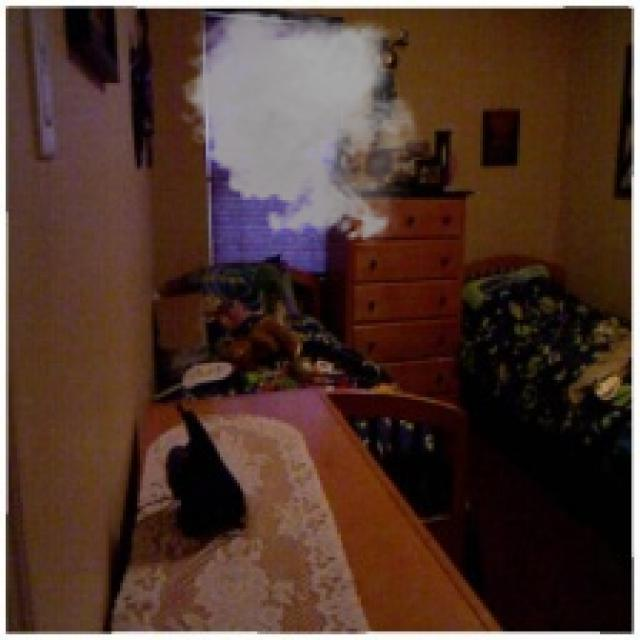Smoke: (175, 0, 432, 249)
